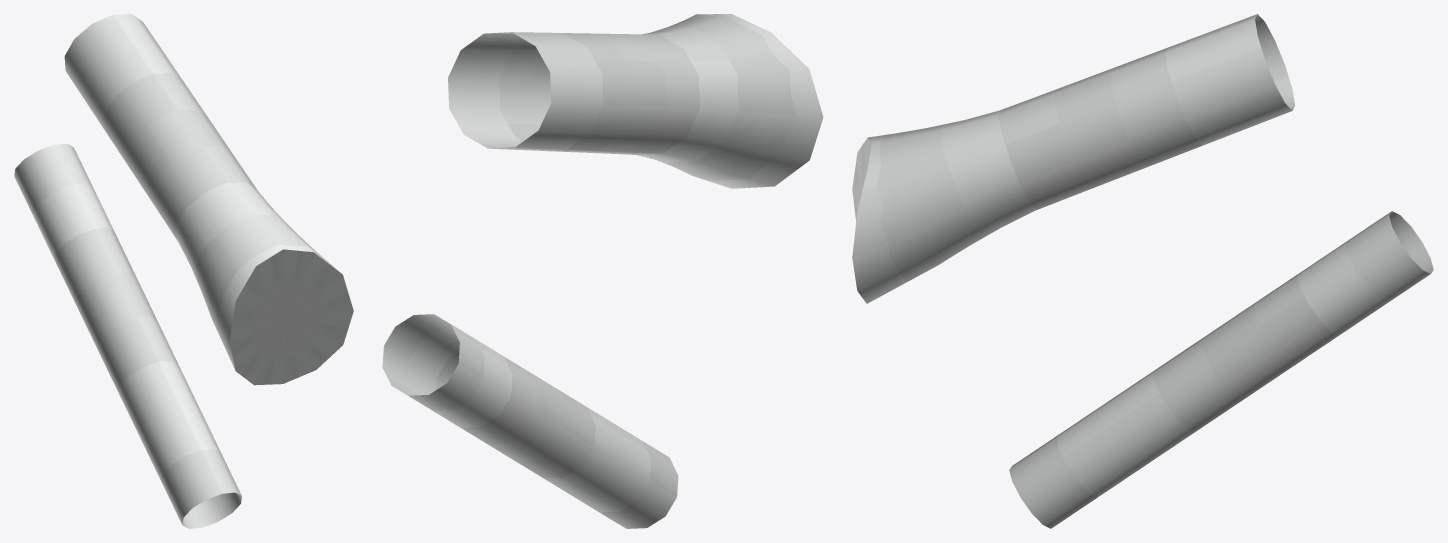
File: luminairearm_truss10ftstraight_c0.obj
3 renders of one model, left to right at view 1: azimuth 30°, elevation 25°; view 2: azimuth 150°, elevation 25°; view 3: azimuth 270°, elevation 25°, orthographic. The views are drawn at different scales.
Parts seen in each view (by area): view 1: luminairearm_truss10ftstraight_c0; view 2: luminairearm_truss10ftstraight_c0; view 3: luminairearm_truss10ftstraight_c0.
Boxes of the visible parts, box(x1,y1,x2,y2) form: luminairearm_truss10ftstraight_c0: box(14, 14, 353, 528); luminairearm_truss10ftstraight_c0: box(382, 14, 823, 528); luminairearm_truss10ftstraight_c0: box(852, 14, 1433, 528).
Bounding box in the file's own units: 0.3375 × 1.16 × 1.21.
